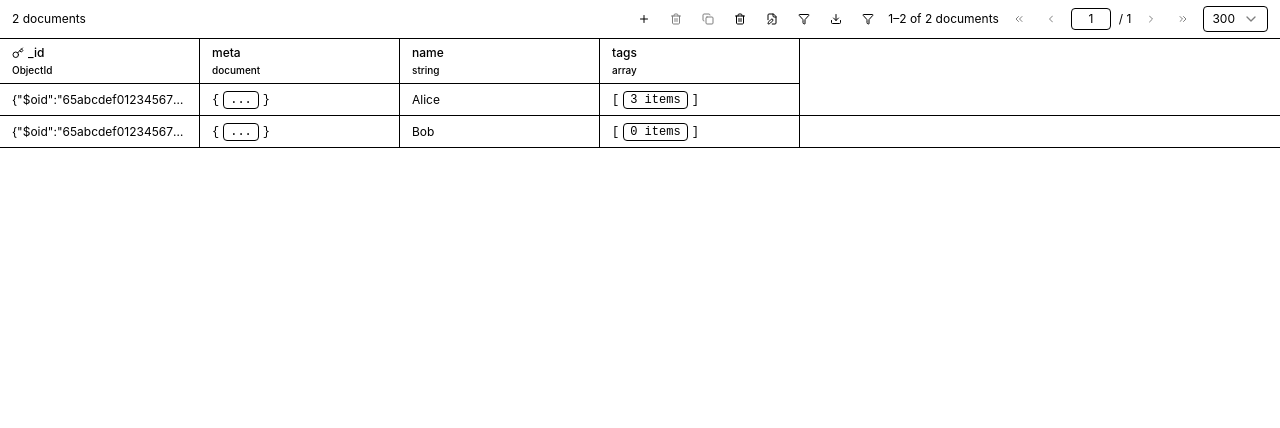
it: DocumentDataGrid › F6 reaches the panel and closing it hands focus back to the grid cell
Expected: the text "Alice" is shown, [412,92,440,108]
Click the text "Alice". click: x=640, y=100
box: [0,84,1279,116]
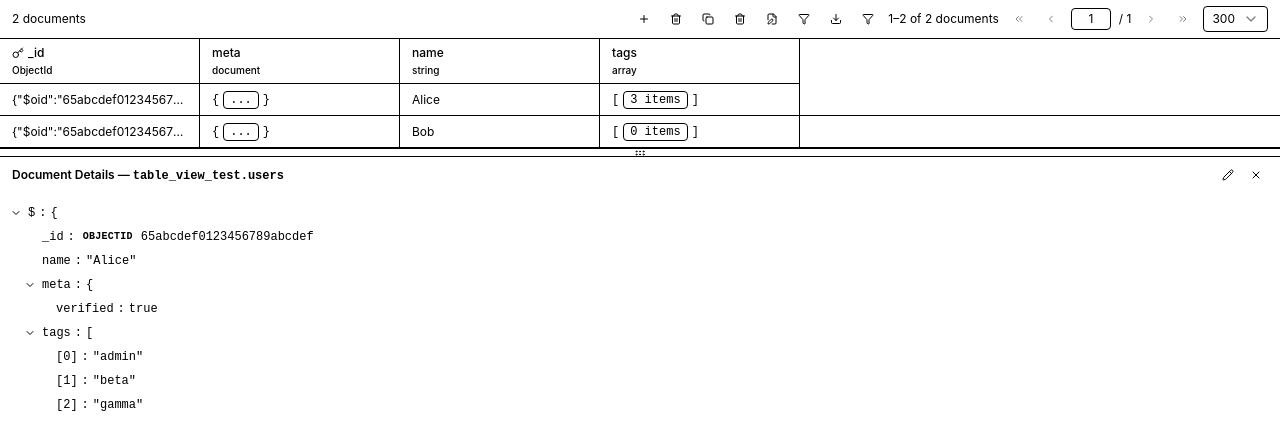
Press F6
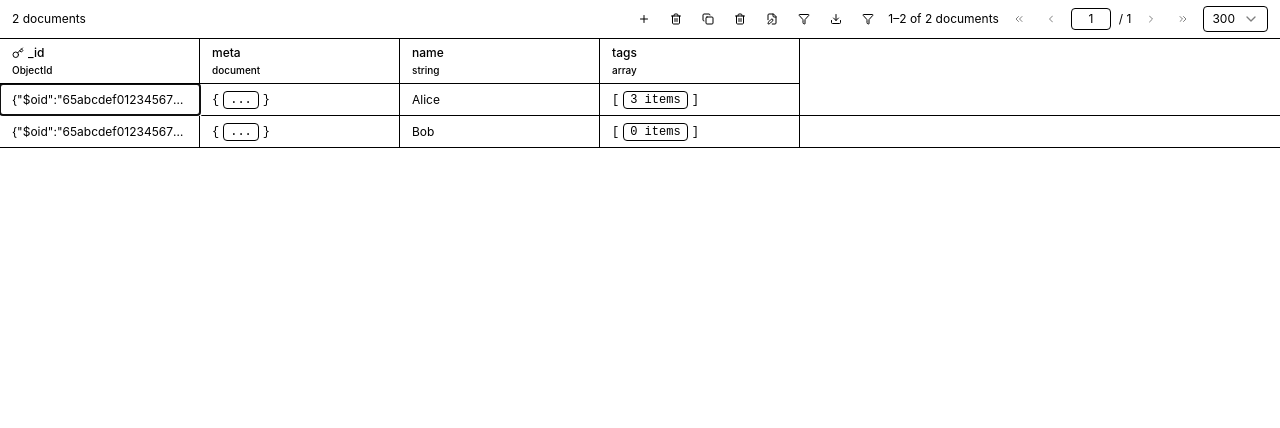
Expected: the heading "Document Details" is gone
